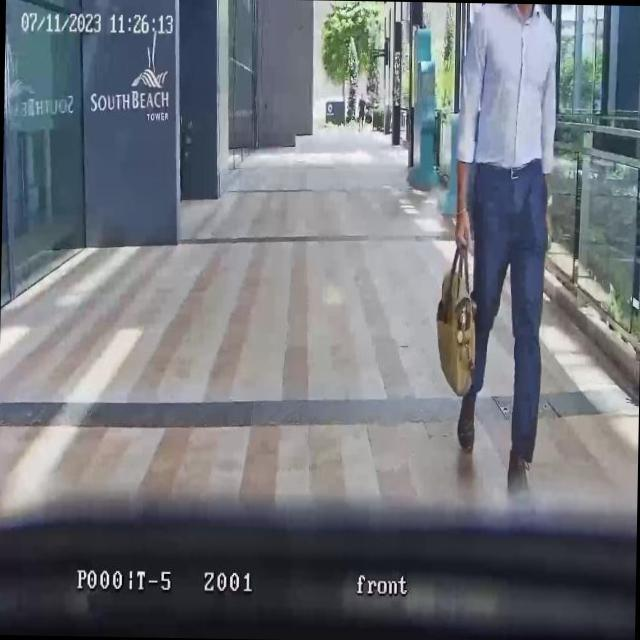person: (448, 3, 557, 492), (357, 95, 365, 130)
